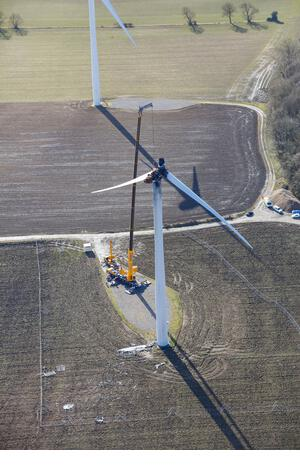faulty: (87, 140, 258, 359)
